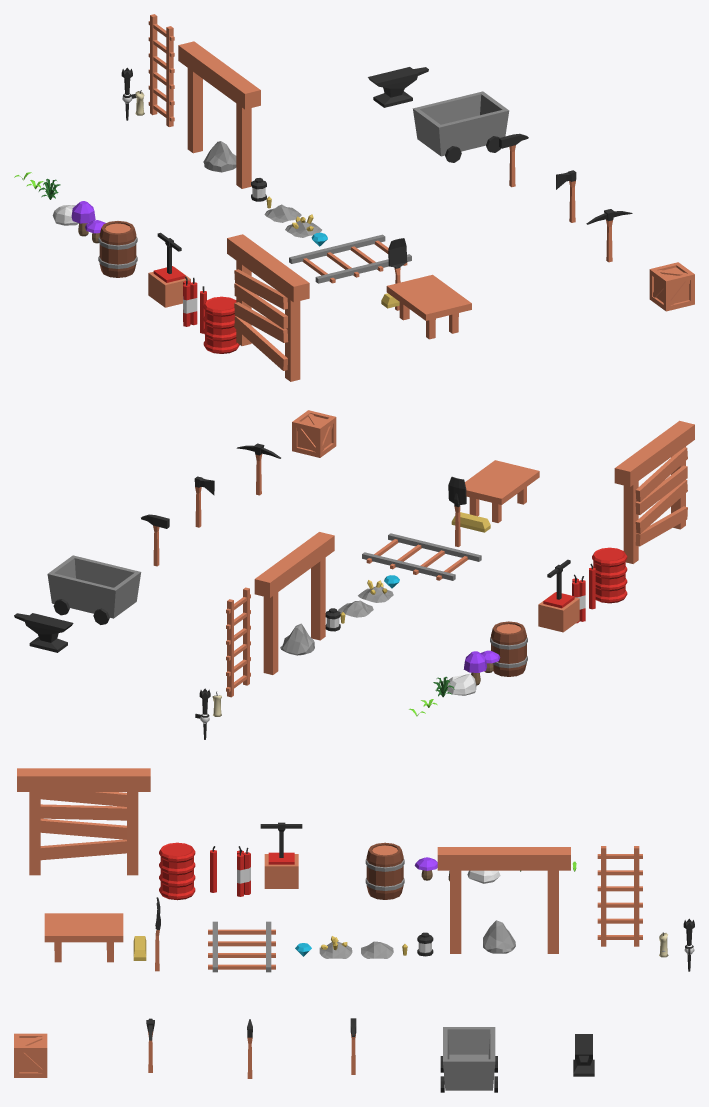
File: MiningAssets.glb
The picture shows the model from 3 angles, top to bottom: view 1: azimuth 30°, elevation 25°; view 2: azimuth 150°, elevation 25°; view 3: azimuth 270°, elevation 25°; orthographic projection. The views are drawn at different scales.
Visible parts, largest first — view 1: support.001, Cube.012, Cube.006, Cube.014, Cube.016, Cylinder, Cube.013, crate, Cylinder.001, plunger, Cube.008, Plane.004 (+2 smaller); view 2: support.001, Cube.012, Cube.006, Cube.014, Cube.013, Cube.016, crate, Cylinder, Cylinder.001, plunger, Cube.008, Plane.004 (+4 smaller); view 3: support.001, Cube.012, Cube.006, Cube.014, Cube.016, Cylinder, Cylinder.001, Cube.013, plunger, crate, Cube.008, Plane.004 (+2 smaller).
Part boxes in pixels (x1,y1,x2,y2): support.001: (227,234,309,381); Cube.012: (178,41,260,188); Cube.006: (412,91,509,162); Cube.014: (386,274,471,339); Cube.016: (148,14,174,126); Cylinder: (98,221,137,277); Cube.013: (289,234,411,283); crate: (649,262,694,311); Cylinder.001: (203,296,239,353); plunger: (148,232,190,307); Cube.008: (368,67,428,107); Plane.004: (203,141,236,172); support.001: (614,420,694,563); Cube.012: (254,532,334,674); Cube.006: (47,555,141,624); Cube.014: (465,460,539,522); Cube.013: (362,533,481,580); Cube.016: (226,587,250,697); crate: (292,410,336,457); Cylinder: (490,621,527,676); Cylinder.001: (592,547,627,603); plunger: (538,559,579,632); Cube.008: (14,613,73,652); Plane.004: (280,623,314,655); support.001: (17,768,150,875); Cube.012: (437,847,570,953); Cube.006: (440,1027,497,1092); Cube.014: (44,913,123,962); Cube.016: (597,846,642,946); Cylinder: (365,842,404,899); Cylinder.001: (159,842,195,900); Cube.013: (208,921,275,972); plunger: (260,822,302,888); crate: (14,1033,47,1077); Cube.008: (573,1034,594,1076); Plane.004: (483,920,515,953).
Size of the model in its own units: 30.31 by 8.32 by 40.82.
